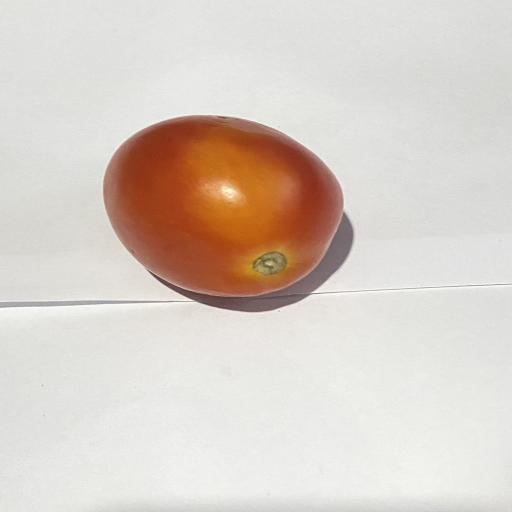ripe: (103, 116, 343, 297)
